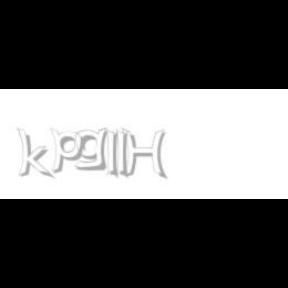H: (121, 128, 167, 180)
g: (74, 128, 112, 171)
k: (16, 128, 54, 180)
l: (106, 128, 122, 180), (116, 128, 132, 180)
p: (51, 128, 88, 174)
